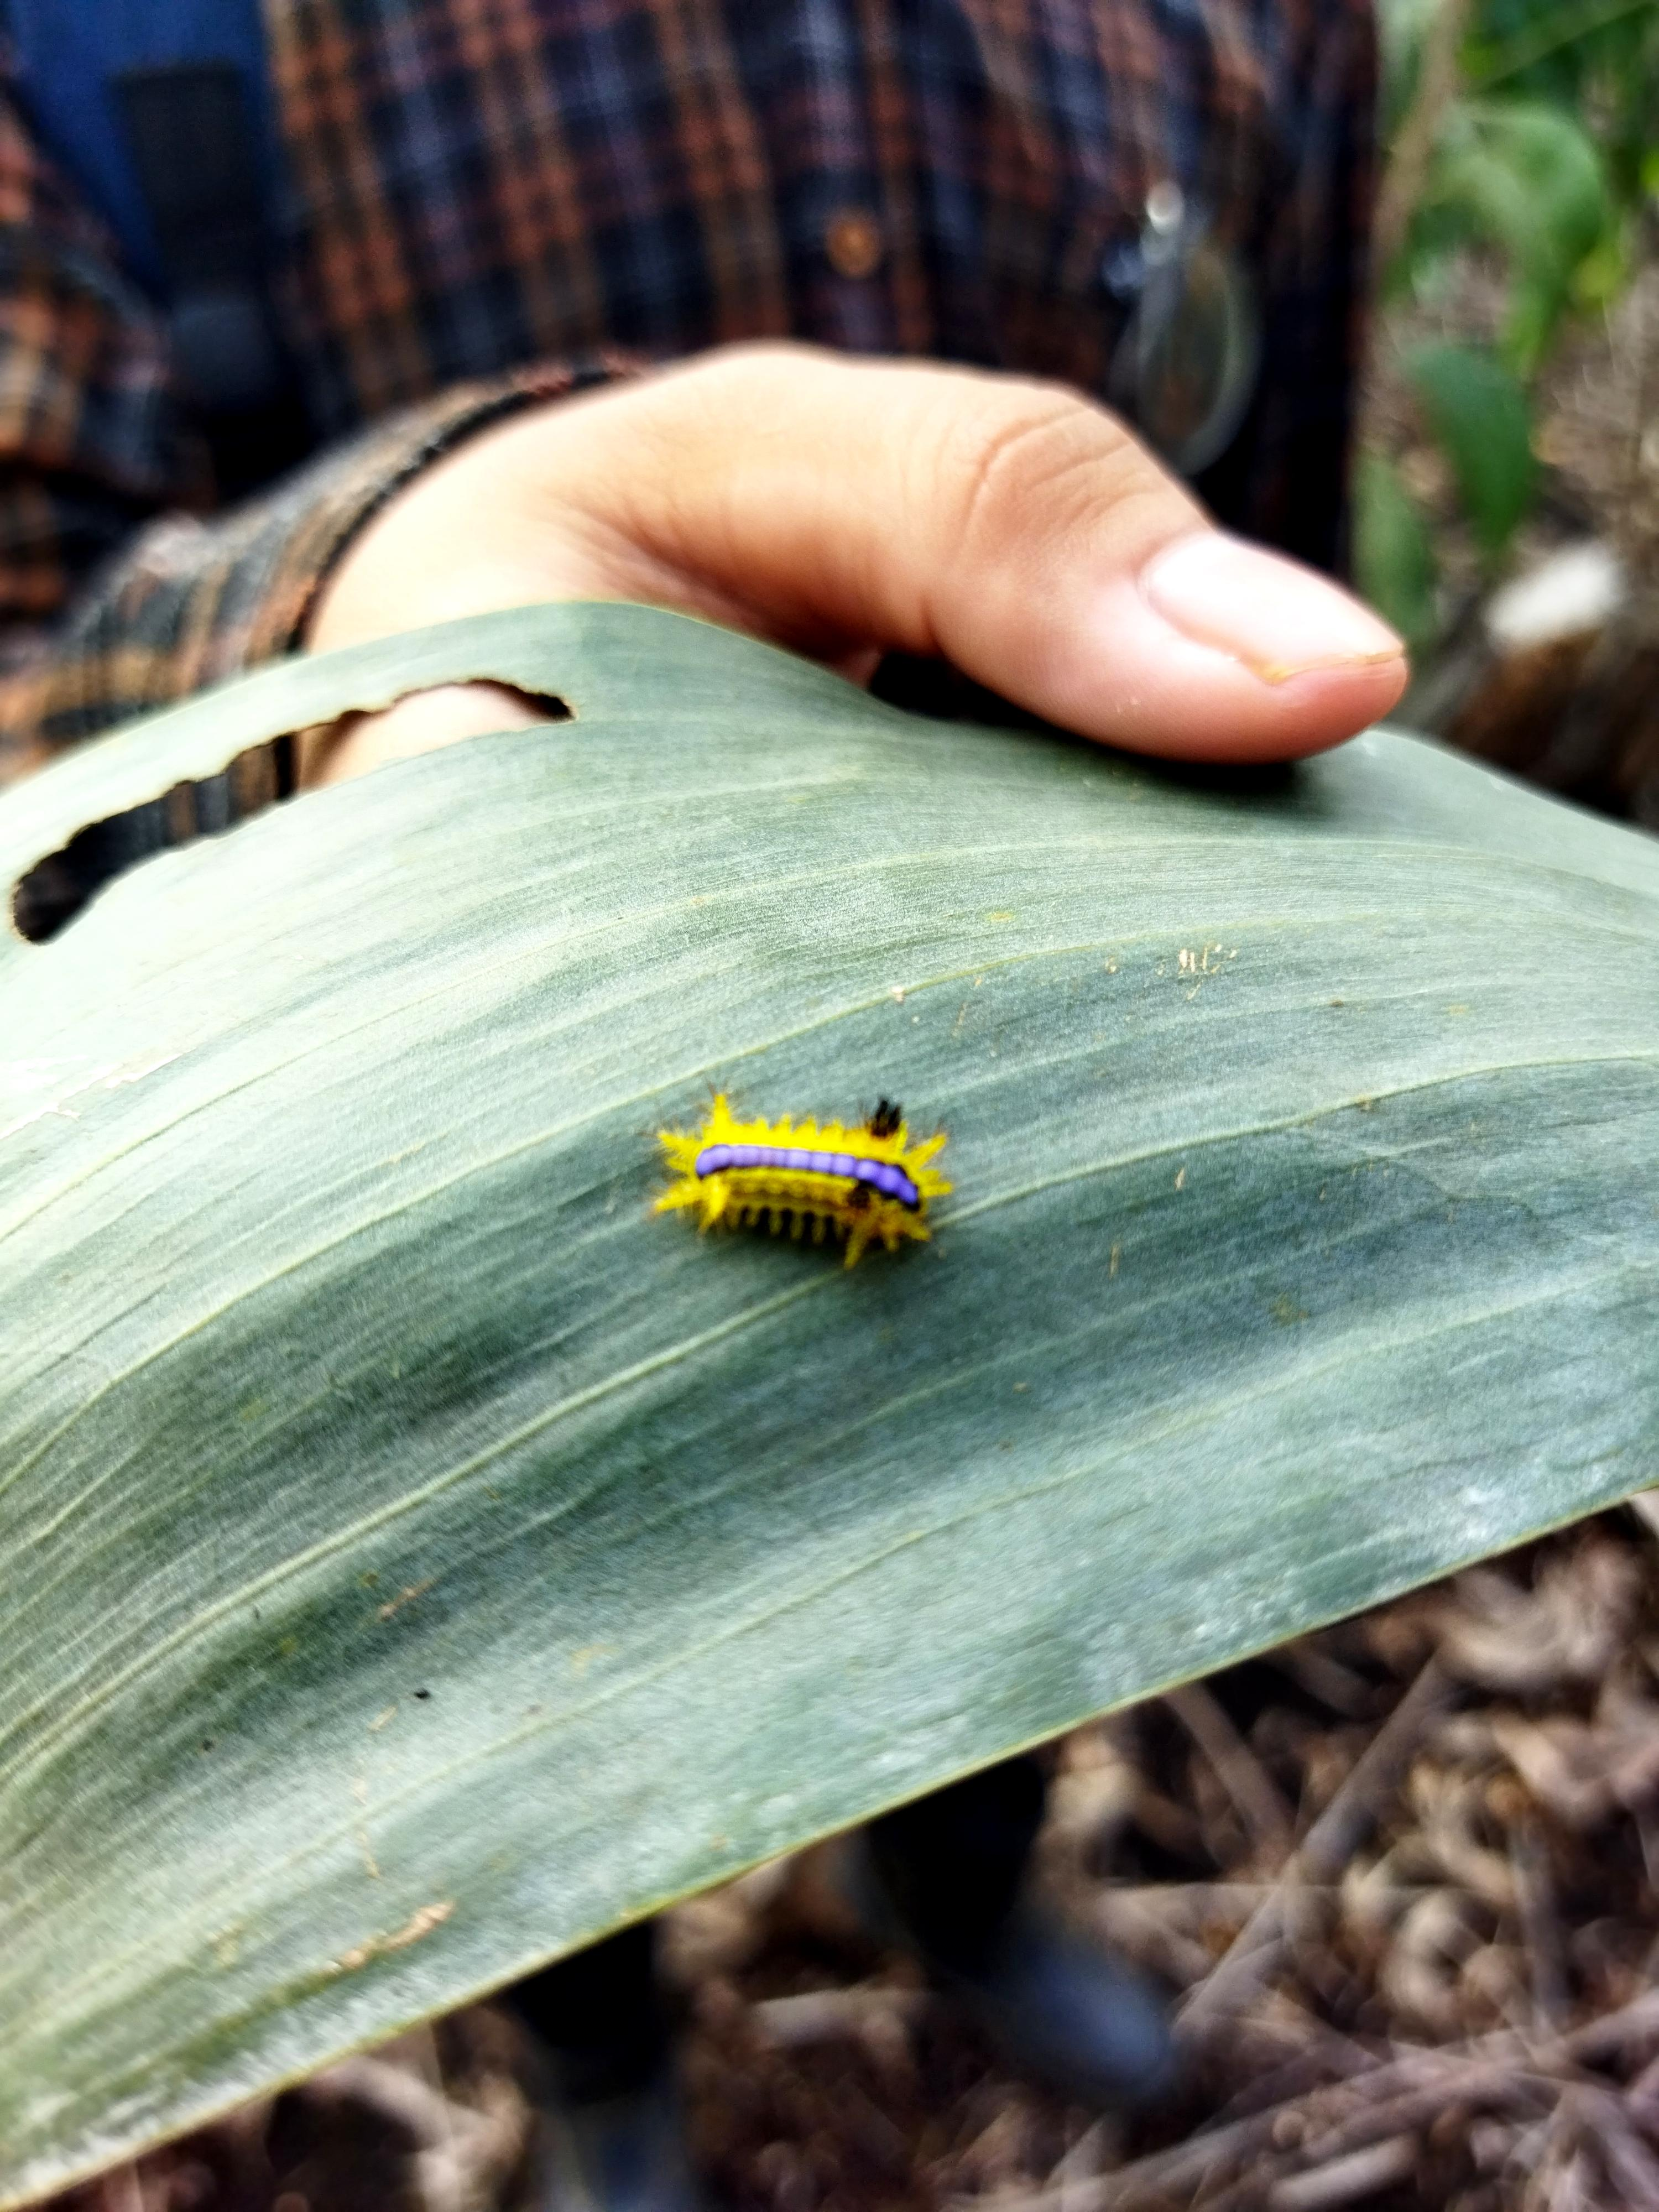Caterpillar: (648, 1062, 1000, 1296)
